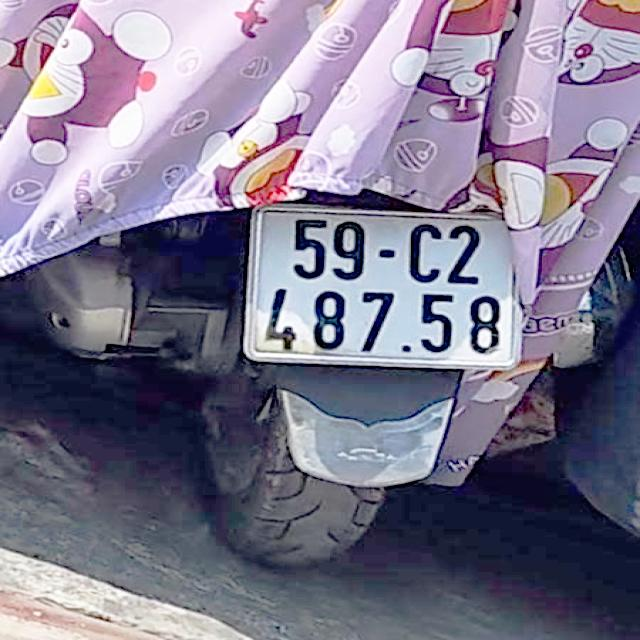license_plate: (253, 207, 522, 359)
